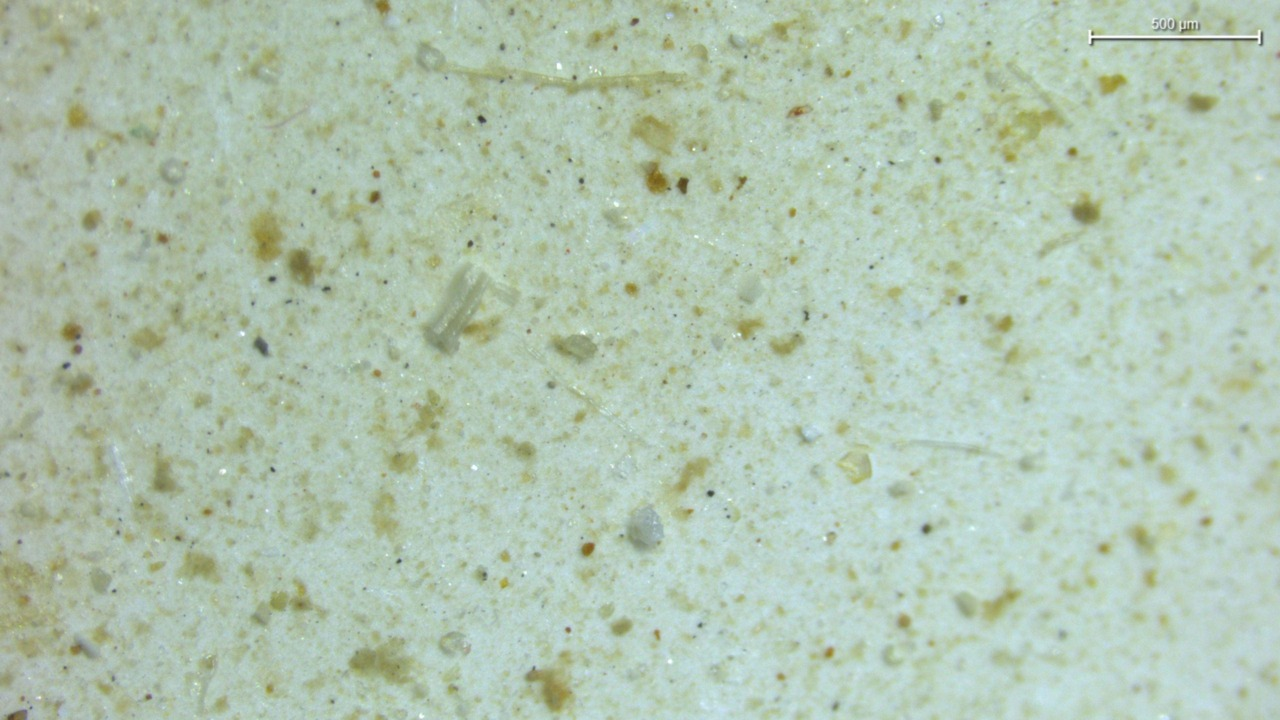microplastic_fragment: (424, 265, 494, 353), (627, 506, 664, 549), (552, 334, 597, 361), (494, 285, 517, 302)
